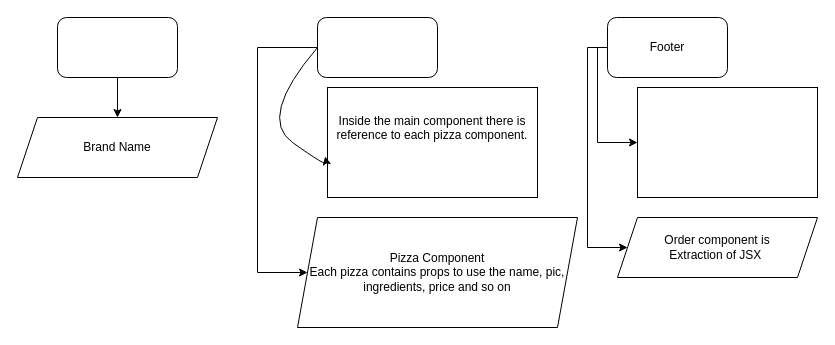
The diagram is 835 pixels wide and 345 high, and some of its shapes have lost their labels. Each missing label, with the centre of its shape:
"Header" belongs at point 117,47.
"Main" belongs at point 377,47.
"Ternary Operator to have open and closeHour." belongs at point 727,142.
